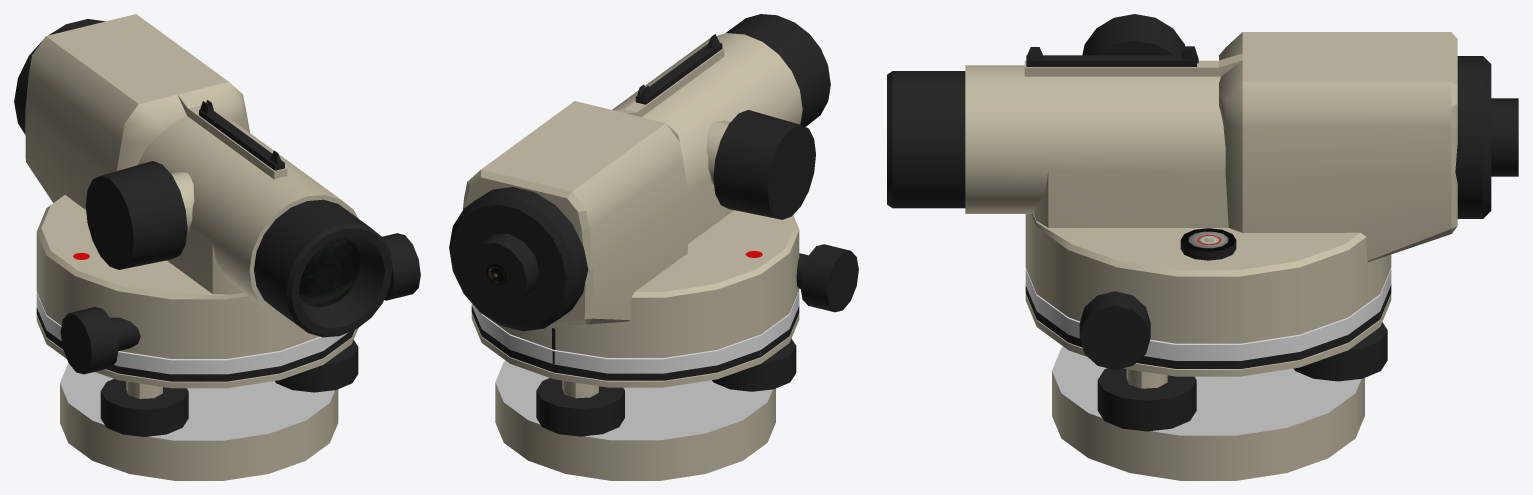
The model's file is Nikon_Level.FBX.
3 renders of one model, left to right at view 1: azimuth 30°, elevation 25°; view 2: azimuth 150°, elevation 25°; view 3: azimuth 270°, elevation 25°, orthographic. The views are drawn at different scales.
Parts seen in each view (by area): view 1: telescope, tribrach, horizontal_scale; view 2: telescope, tribrach, horizontal_scale; view 3: telescope, tribrach, horizontal_scale.
Part boxes in pixels (x1,y1,x2,y2): telescope: [14, 14, 420, 374]; tribrach: [36, 314, 358, 480]; horizontal_scale: [36, 292, 354, 381]; telescope: [449, 14, 858, 357]; tribrach: [471, 313, 799, 480]; horizontal_scale: [471, 291, 799, 380]; telescope: [887, 14, 1518, 369]; tribrach: [1025, 294, 1391, 480]; horizontal_scale: [1025, 269, 1391, 368].
Size of the model in its own units: 13.39 by 19.81 by 12.76.
1 material, 1 textured.
